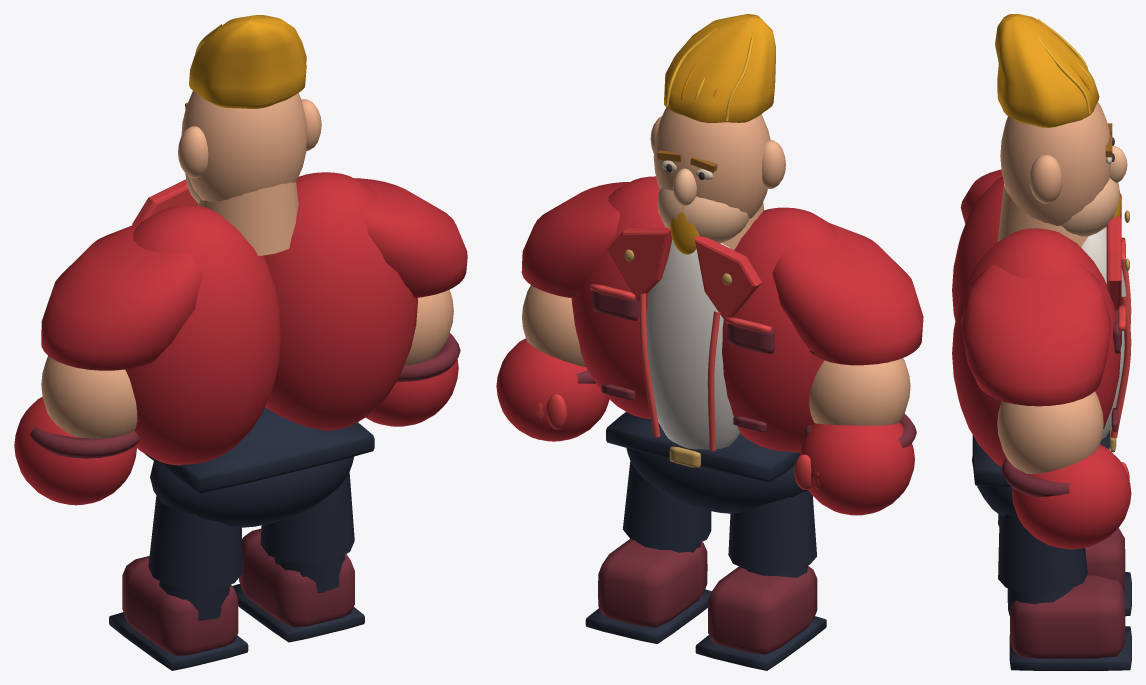
The model's file is red-colossus.glb.
3 views of the same model, side by side, from view 1: azimuth 30°, elevation 25°; view 2: azimuth 150°, elevation 25°; view 3: azimuth 270°, elevation 25° (orthographic). The views are drawn at different scales.
Visible parts, largest first — view 1: body, armL, head, armR, bootL, bootR, legL, legR, shinL, shinR; view 2: body, armL, head, armR, bootL, bootR, legL, legR; view 3: armR, head, body, bootR, legR, bootL, armL, shinR.
Part boxes in pixels (<box>): body: <box>125,172,417,527</box>; armL: <box>14,221,202,505</box>; head: <box>178,15,321,255</box>; armR: <box>353,178,467,426</box>; bootL: <box>109,556,248,670</box>; bootR: <box>232,528,364,642</box>; legL: <box>148,495,242,590</box>; legR: <box>260,472,354,564</box>; shinL: <box>159,581,230,620</box>; shinR: <box>274,555,345,593</box>; body: <box>571,176,837,513</box>; armL: <box>772,223,923,515</box>; head: <box>650,14,785,254</box>; armR: <box>496,182,629,441</box>; bootL: <box>695,566,826,670</box>; bootR: <box>585,539,711,643</box>; legL: <box>728,490,816,572</box>; legR: <box>622,461,711,548</box>; armR: <box>960,263,1131,549</box>; head: <box>995,14,1127,247</box>; body: <box>952,176,1131,517</box>; bootR: <box>1009,575,1131,670</box>; legR: <box>998,514,1087,593</box>; bootL: <box>1085,527,1131,616</box>; armL: <box>960,169,1002,223</box>; shinR: <box>1007,588,1072,615</box>.
Size of the model in its own units: 2.11 by 2.98 by 0.8075.
